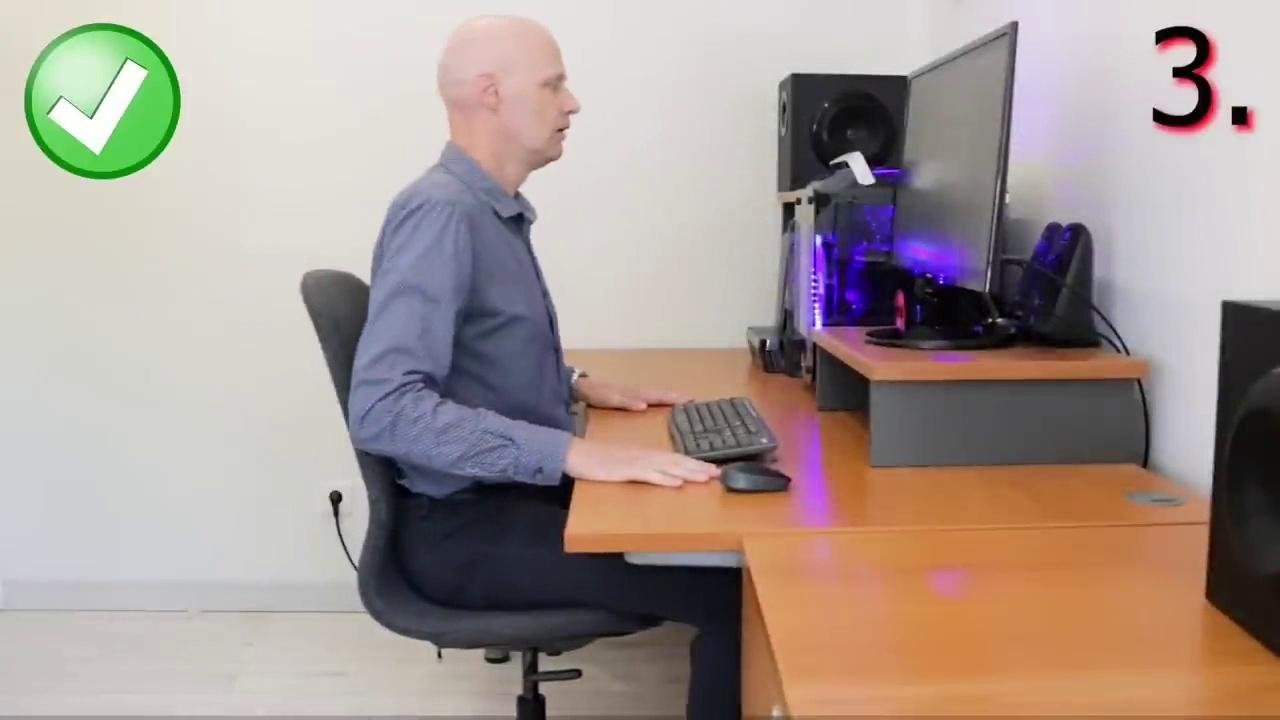GoodPosture: (347, 16, 743, 719)
